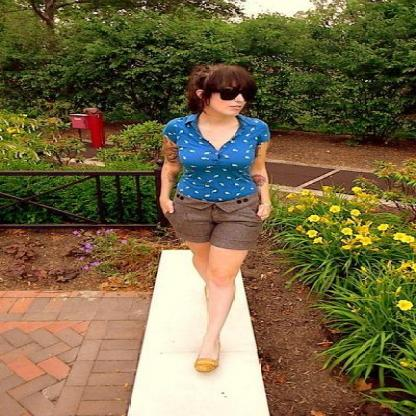shirt: (162, 113, 270, 200)
shoe: (178, 365, 209, 385)
shorts: (165, 192, 266, 249)
sunglass: (223, 82, 259, 102)
